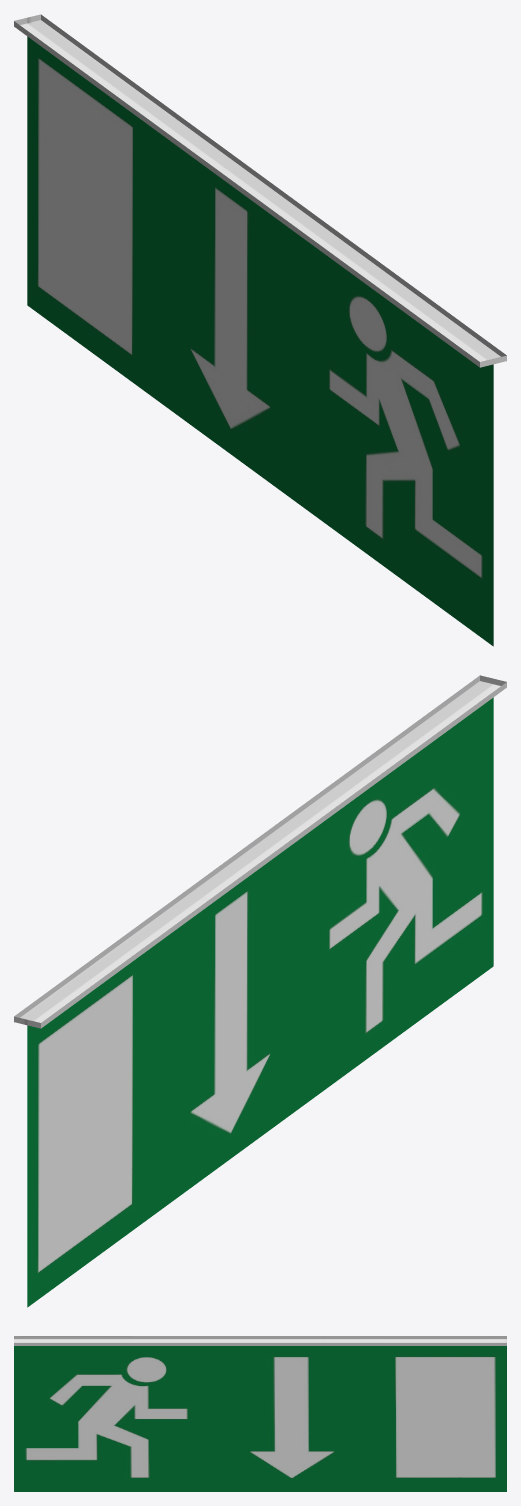
The model's file is Exitsign.fbx.
The picture shows the model from 3 angles, top to bottom: view 1: azimuth 30°, elevation 25°; view 2: azimuth 150°, elevation 25°; view 3: azimuth 270°, elevation 25°; orthographic projection. The views are drawn at different scales.
Visible parts, largest first — view 1: Plane.003; view 2: Plane.003; view 3: Plane.003.
Part boxes in pixels (x1=…): Plane.003: x1=14, y1=14, x2=506, y2=646; Plane.003: x1=14, y1=675, x2=506, y2=1307; Plane.003: x1=14, y1=1336, x2=506, y2=1491.
Size of the model in its own units: 0.2993 by 0.01 by 0.102.
Materials: 1 (1 with a texture image).
